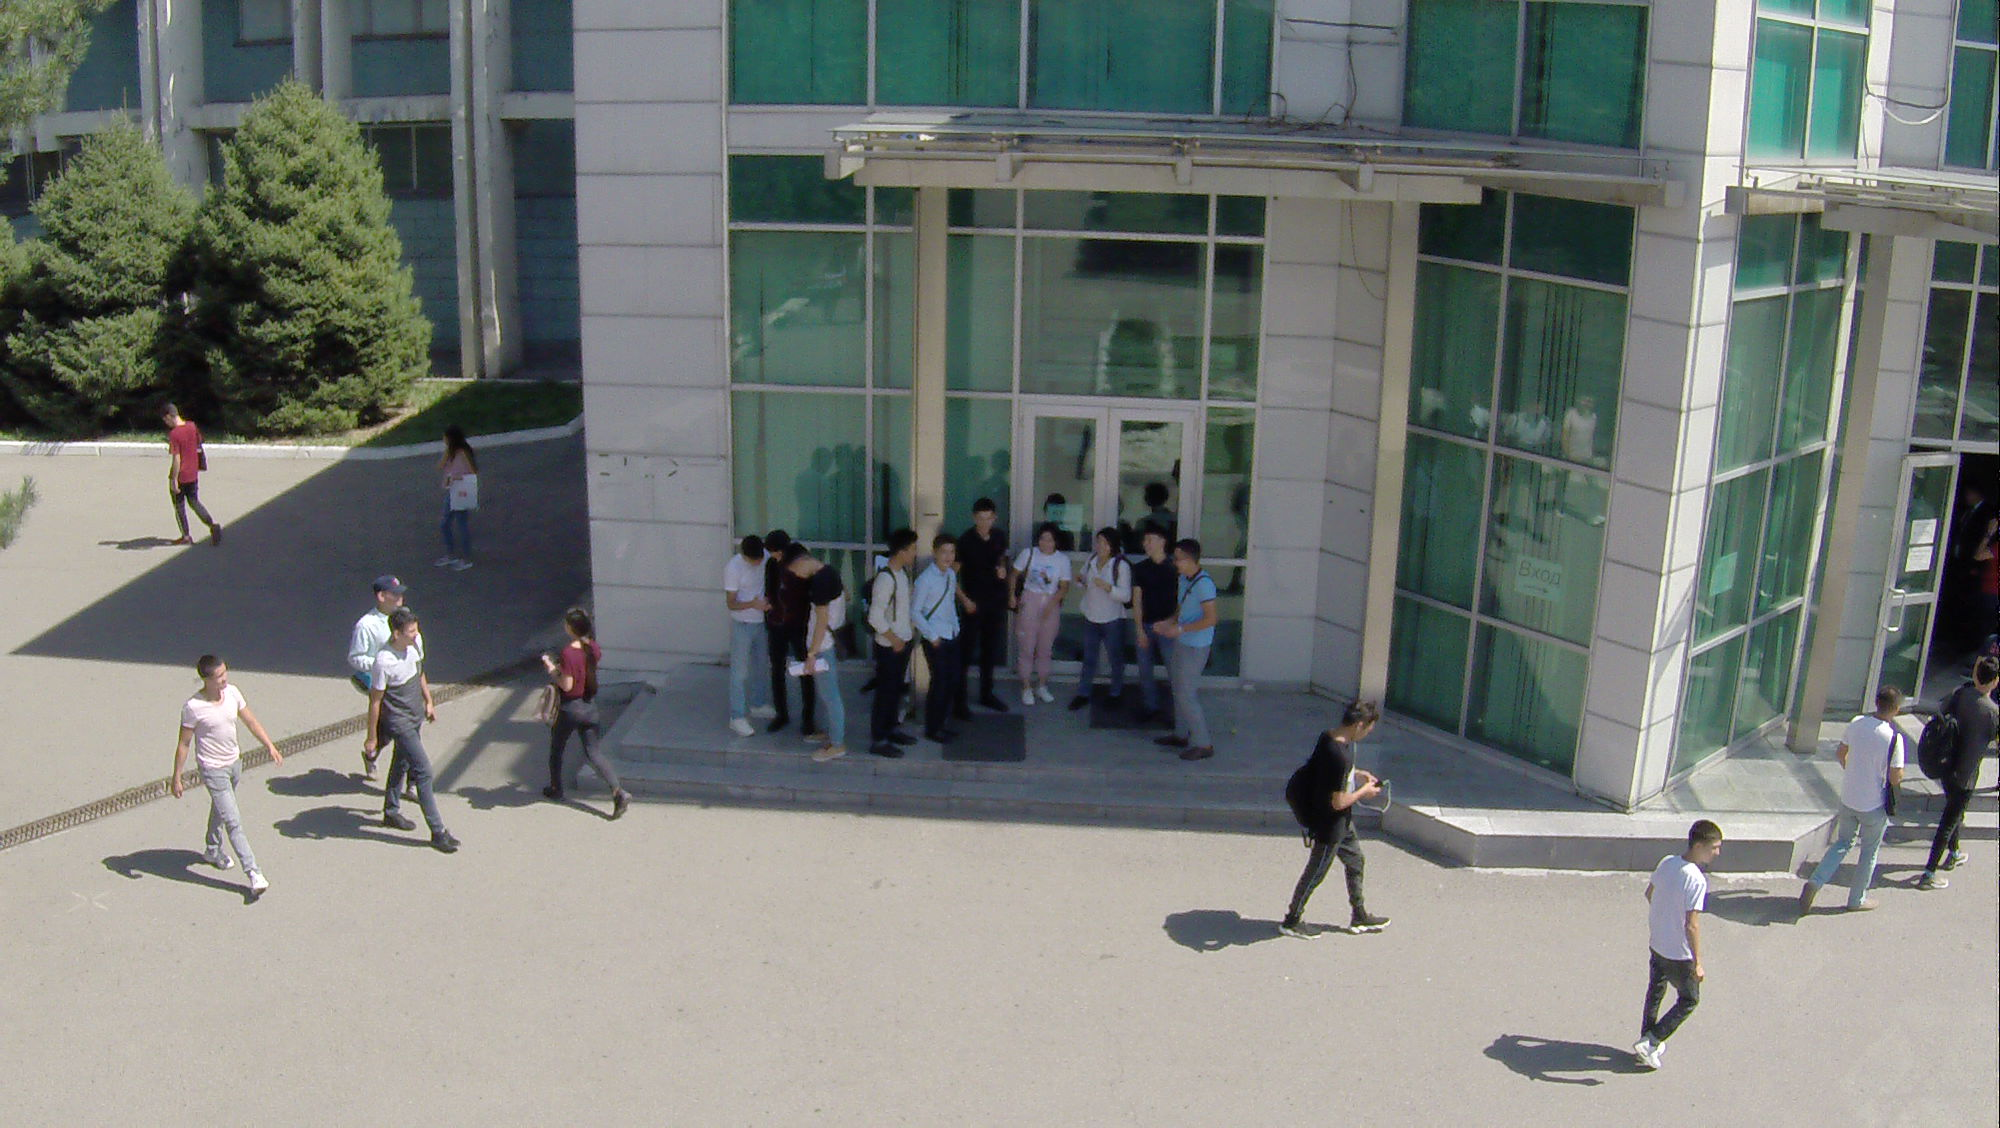person: (156, 647, 284, 902), (1279, 692, 1400, 939), (1802, 672, 1908, 921), (369, 608, 473, 858), (1637, 814, 1729, 1083), (1911, 653, 2000, 893), (542, 601, 634, 833), (784, 536, 852, 772), (1160, 528, 1227, 762), (866, 521, 920, 762), (151, 401, 227, 559), (913, 529, 966, 744), (960, 494, 1007, 721), (763, 529, 810, 741), (1013, 519, 1065, 708), (720, 532, 766, 727), (427, 421, 484, 579), (1080, 522, 1126, 711), (1135, 522, 1177, 724)
